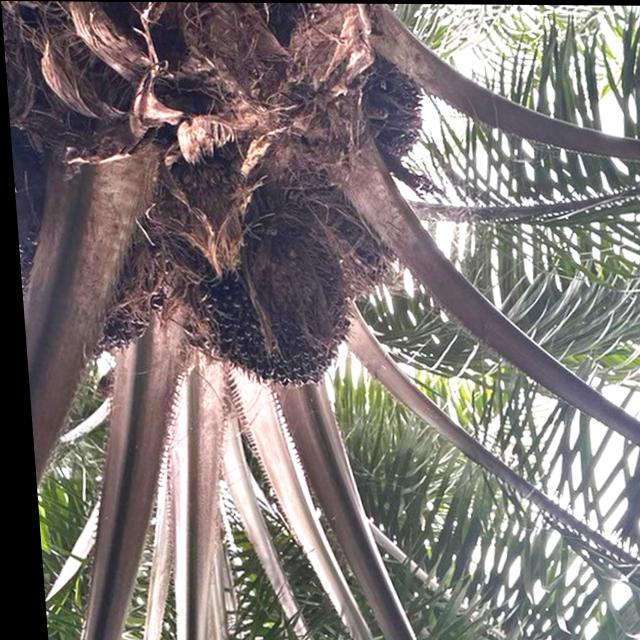unripe: (180, 220, 352, 393)
